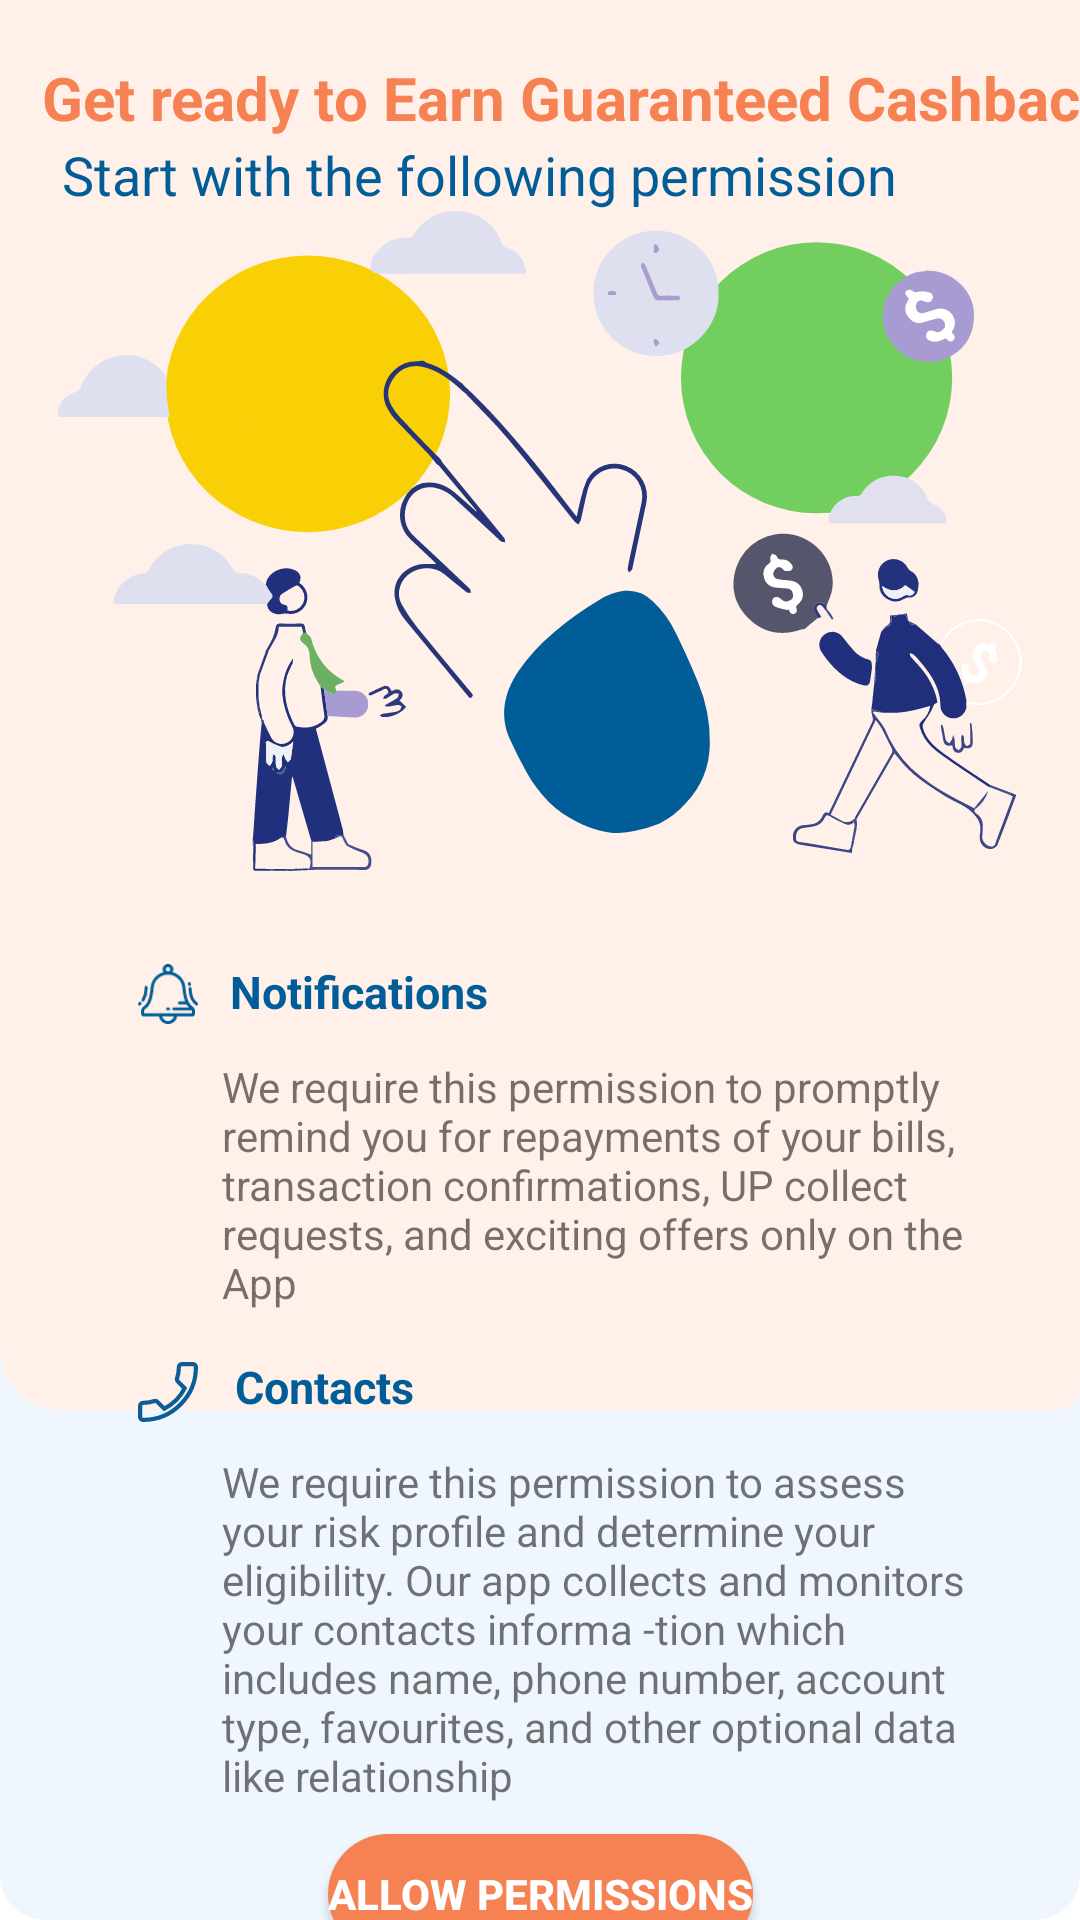

Icons on this 1080px×1920px Android screen, each with its box as (x1, y1, x2, y2):
bell: (138, 964, 198, 1024)
